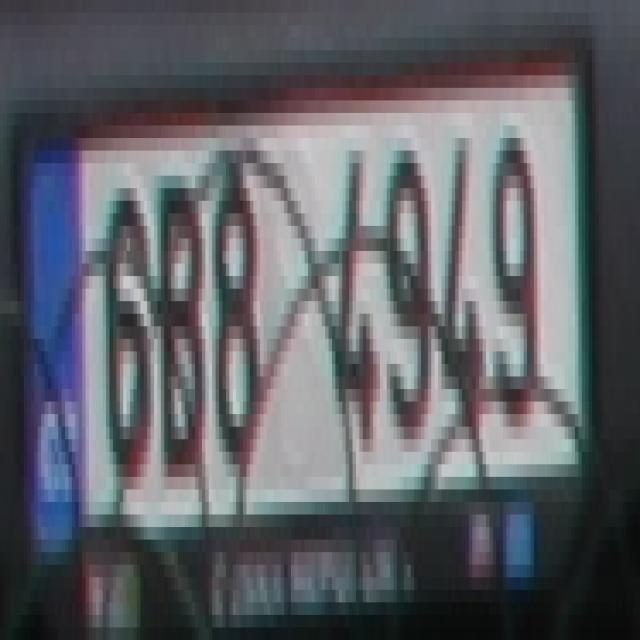4: (332, 138, 380, 439), (438, 113, 479, 439)
6: (102, 188, 158, 464)
8: (212, 176, 257, 452)
9: (489, 138, 541, 427), (384, 138, 432, 427)
B: (154, 163, 202, 490)
